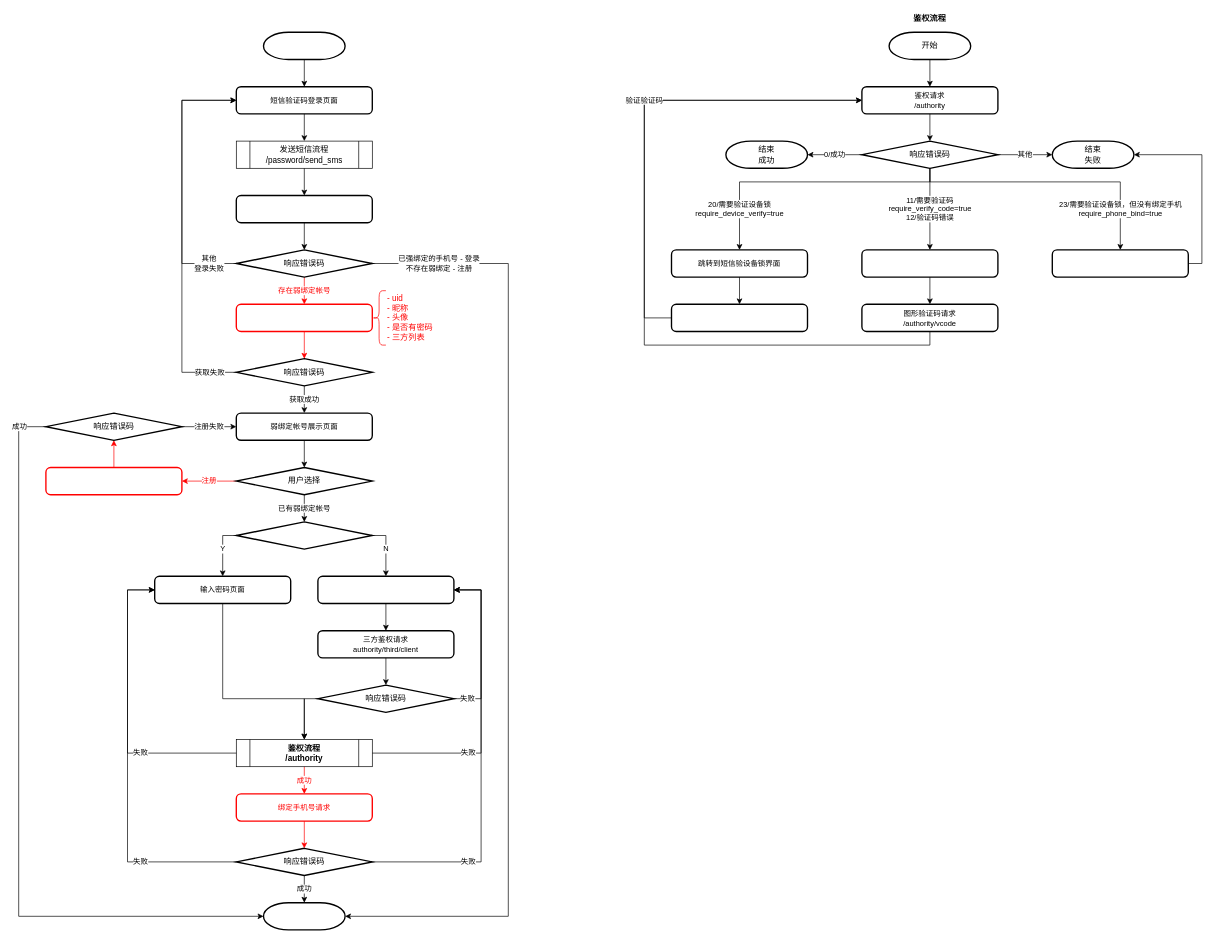
The diagram is 1219 pixels wide and 942 high, and some of its shapes have lost their labels. The centre of each missing label's shape, as x and y in pixels:
"一键注册登录请求 /one_click_reg/reg_auth" belongs at [304,208].
"发送短信验证码请求 /authority/req_device_code" belongs at [739,317].
"开始 短信验证码登录页面" belongs at [303,45].
"是否有登录密码" belongs at [304,535].
"注册请求" belongs at [113,480].
"用户选择某个三方渠道验证" belongs at [385,589].
"结束 进行连接层登录" belongs at [303,916].
"获取弱绑定帐号与三方信息请求" belongs at [304,317].
"跳转到图形验证码界面" belongs at [929,263].
"跳转到引导绑定手机号界面 （引导至H5）" belongs at [1120,263].
